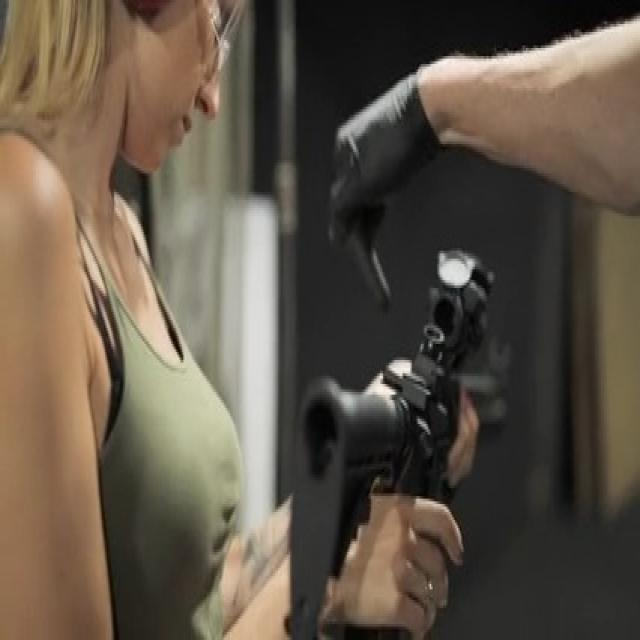Gun_Holder: (287, 200, 554, 624)
Person: (2, 0, 451, 640)
